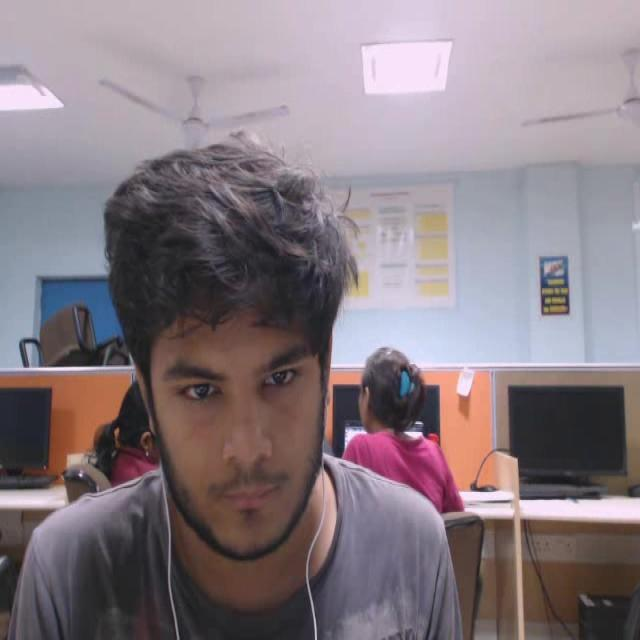Engaged: (79, 98, 392, 584)
